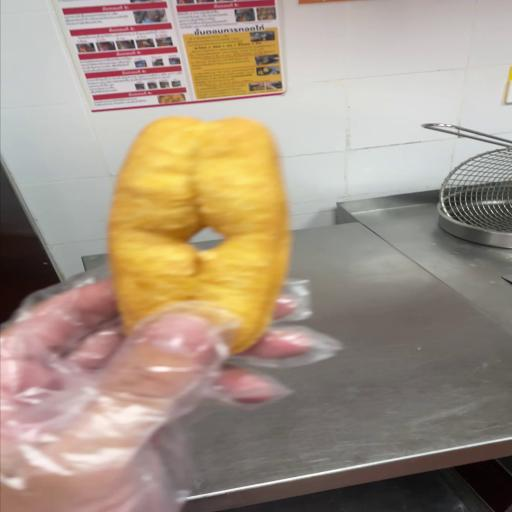brand_golden_defect: (109, 117, 290, 353)
